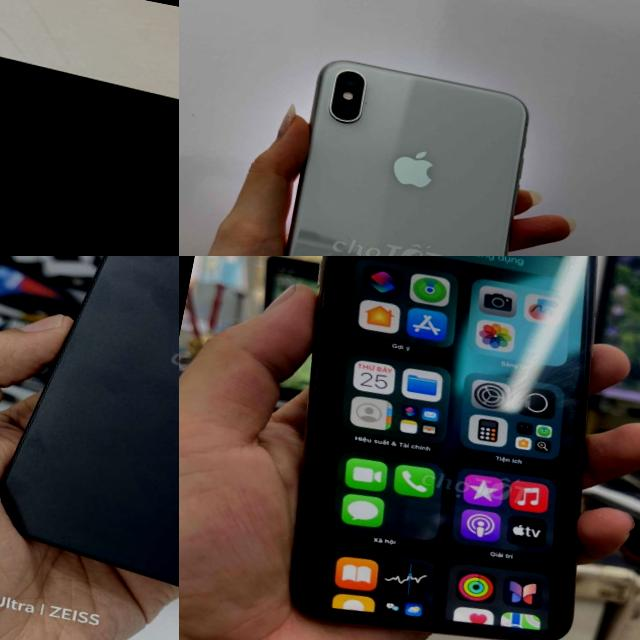gen_12_13: (0, 26, 179, 256)
gen_16: (1, 256, 179, 586)
gen_x_xs: (239, 256, 640, 640), (286, 62, 527, 256)
scratch: (359, 96, 374, 112)
